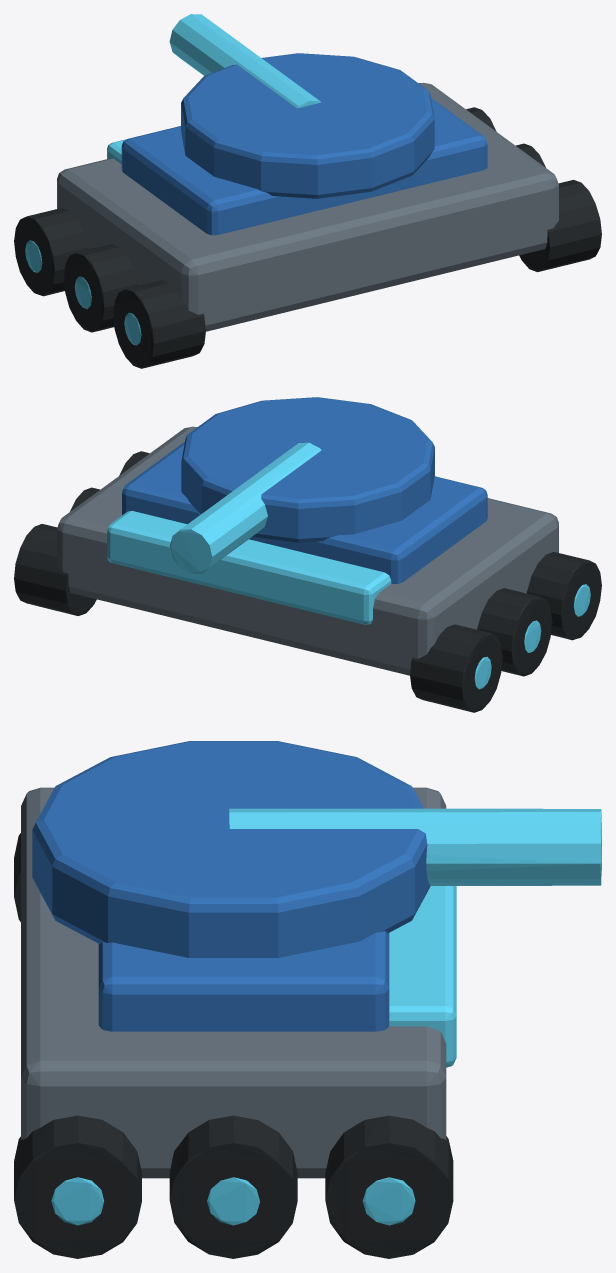
File: SM_Alliance_AL_BulwarkMBT_LOD1.fbx
The picture shows the model from 3 angles, top to bottom: view 1: azimuth 30°, elevation 25°; view 2: azimuth 150°, elevation 25°; view 3: azimuth 270°, elevation 25°; orthographic projection. The views are drawn at different scales.
Visible parts, largest first — view 1: LOD01_SM_Alliance_AL_BulwarkMBT; view 2: LOD01_SM_Alliance_AL_BulwarkMBT; view 3: LOD01_SM_Alliance_AL_BulwarkMBT.
Part boxes in pixels (x1,y1,x2,y2): LOD01_SM_Alliance_AL_BulwarkMBT: [14, 14, 601, 368]; LOD01_SM_Alliance_AL_BulwarkMBT: [14, 397, 601, 712]; LOD01_SM_Alliance_AL_BulwarkMBT: [14, 741, 601, 1258].
Size of the model in its own units: 504 by 363 by 187.
